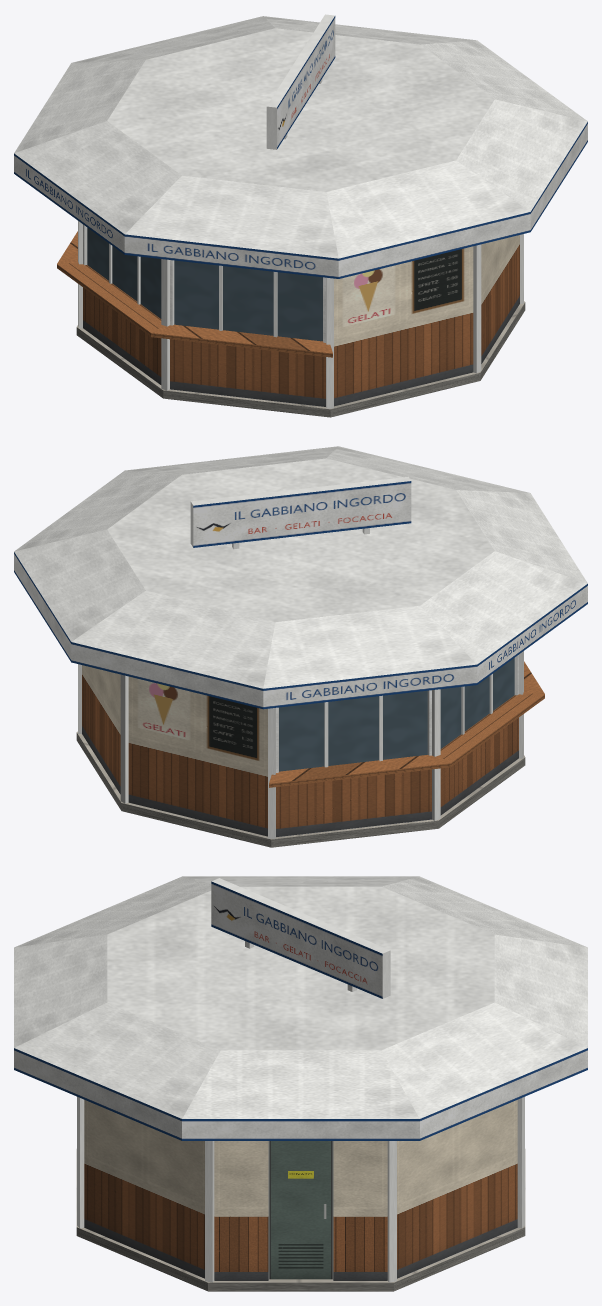
File: SM_Morin_ChioscoOttagonale_v3.fbx
The picture shows the model from 3 angles, top to bottom: view 1: azimuth 30°, elevation 25°; view 2: azimuth 150°, elevation 25°; view 3: azimuth 270°, elevation 25°; orthographic projection. The views are drawn at different scales.
Visible parts, largest first — view 1: SM_Morin_ChioscoOttagonale_v3; view 2: SM_Morin_ChioscoOttagonale_v3; view 3: SM_Morin_ChioscoOttagonale_v3.
Part boxes in pixels (x1,y1,x2,y2): SM_Morin_ChioscoOttagonale_v3: (14, 14, 587, 417); SM_Morin_ChioscoOttagonale_v3: (14, 446, 587, 847); SM_Morin_ChioscoOttagonale_v3: (14, 876, 587, 1291).
Size of what is drawn, in the model's own units: 711 by 711 by 384.
Materials: 2 (2 with a texture image).
